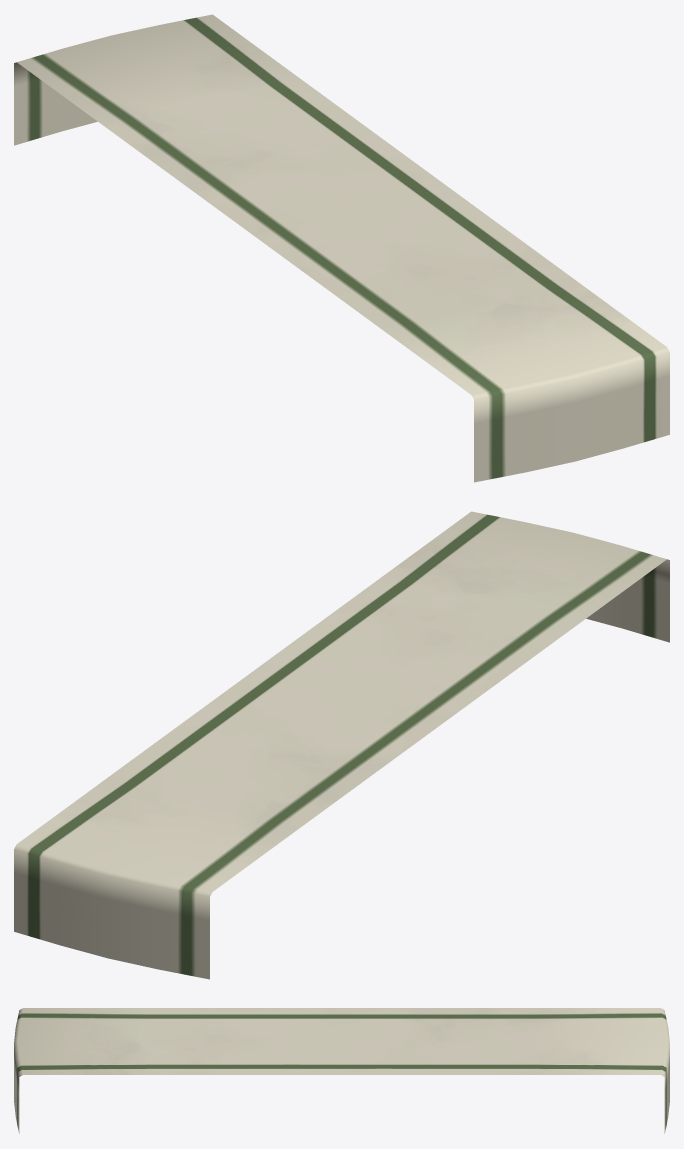
The model's file is tableCloth.fbx.
The picture shows the model from 3 angles, top to bottom: view 1: azimuth 30°, elevation 25°; view 2: azimuth 150°, elevation 25°; view 3: azimuth 270°, elevation 25°; orthographic projection. The views are drawn at different scales.
Parts seen in each view (by area): view 1: tableCloth (2).001; view 2: tableCloth (2).001; view 3: tableCloth (2).001.
Part boxes in pixels (x1,y1,x2,y2): tableCloth (2).001: [14, 14, 669, 482]; tableCloth (2).001: [14, 511, 669, 979]; tableCloth (2).001: [14, 1008, 669, 1133].
Size of the model in its own units: 347 by 145 by 1434.
